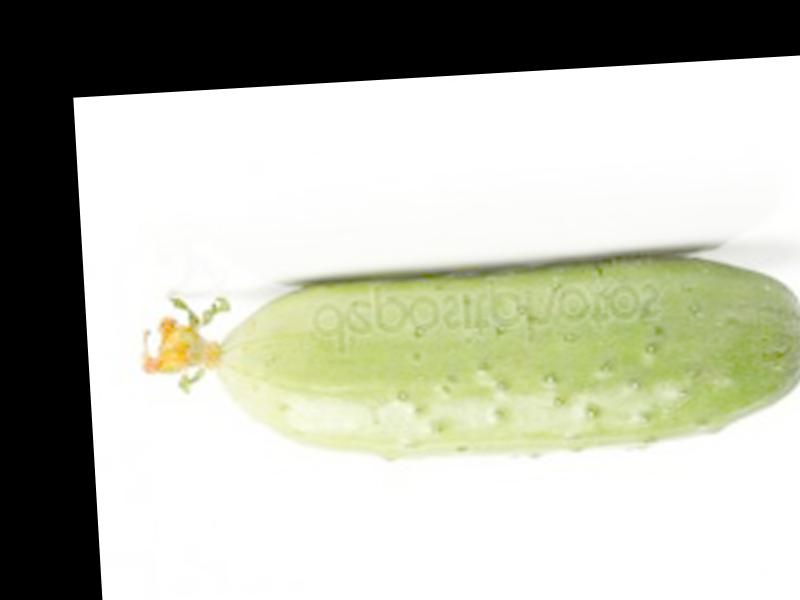Cucumber: (140, 242, 800, 476)
